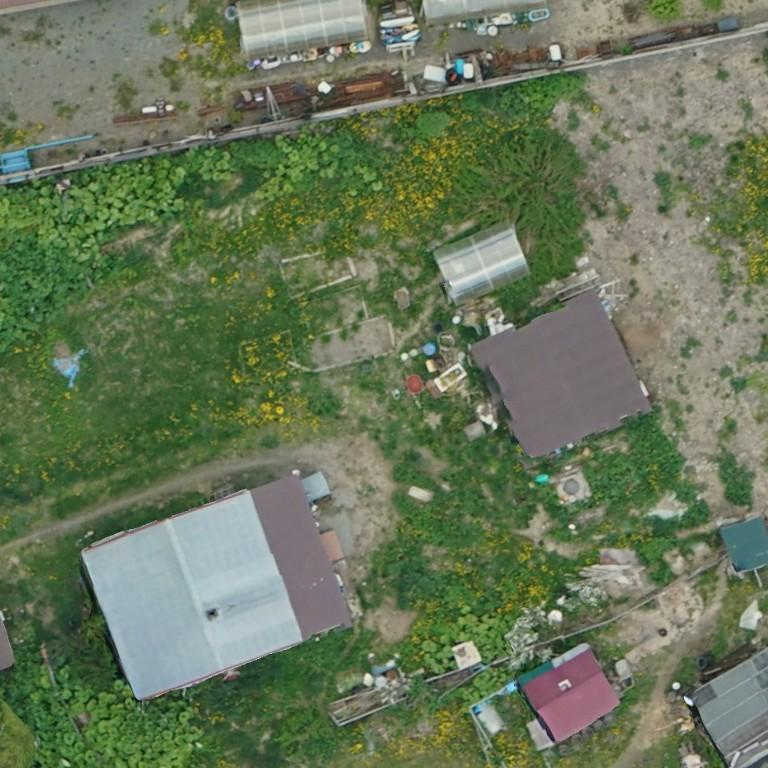hogweed: (0, 243, 90, 351), (628, 410, 680, 483), (0, 653, 35, 715), (728, 481, 750, 503)
